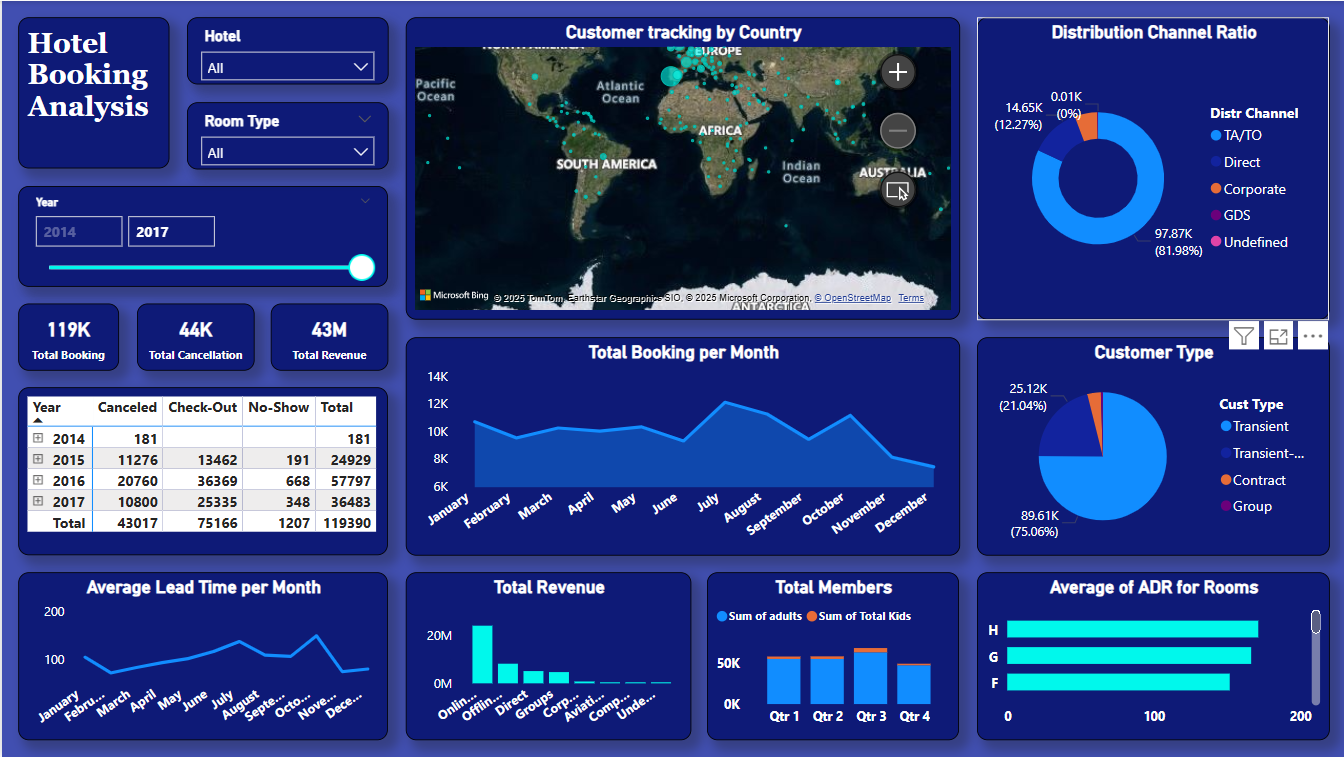

What the dashboard file says about the page in this screenshot:
{"tool":"powerbi","page":{"name":"Page 1","canvas":[1280,720],"ordinal":0},"visuals":[{"type":"card","fields":{"Values":["Hotel_Bookings.Total Booking"]},"box":[16,288,96,64],"z":0},{"type":"card","fields":{"Values":["Hotel_Bookings.Total Cancellation"]},"box":[128,288,112,64],"z":1000},{"type":"card","fields":{"Values":["Hotel_Bookings.Total Revenue Measure"]},"box":[256,288,112,64],"z":2000},{"type":"pivotTable","fields":{"Rows":["Hotel_Bookings.reservation_status_date.Variation.Date Hierarchy.Year","Hotel_Bookings.reservation_status_date.Variation.Date Hierarchy.Month"],"Columns":["Hotel_Bookings.reservation_status"],"Values":["CountNonNull(Hotel_Bookings.reservation_status)"]},"box":[16,368,352,160],"z":3000},{"type":"lineChart","title":"Average Lead Time per Month","fields":{"Category":["Hotel_Bookings.reservation_status_date.Variation.Date Hierarchy.Month"],"Y":["Hotel_Bookings.Average Lead Time"]},"box":[16,544,352,160],"z":4000},{"type":"areaChart","title":"Total Booking per Month","fields":{"Category":["Hotel_Bookings.reservation_status_date.Variation.Date Hierarchy.Month"],"Y":["Hotel_Bookings.Total Booking"]},"box":[384,320,528,208],"z":5000},{"type":"clusteredColumnChart","title":"Total Revenue ","fields":{"Category":["Hotel_Bookings.market_segment"],"Y":["Sum(Hotel_Bookings.Total Revenue)"]},"box":[384,544,272,160],"z":6000},{"type":"columnChart","title":"Total Members","fields":{"Category":["Hotel_Bookings.reservation_status_date.Variation.Date Hierarchy.Quarter"],"Y":["Sum(Hotel_Bookings.adults)","Sum(Hotel_Bookings.Total Kids)"]},"box":[672,544,240,160],"z":7000},{"type":"clusteredBarChart","title":"Average of ADR for Rooms","fields":{"Category":["Hotel_Bookings.assigned_room_type"],"Y":["Avg(Hotel_Bookings.adr)"]},"box":[928,544,336,160],"z":8000},{"type":"pieChart","title":" Customer Type","fields":{"Y":["CountNonNull(Hotel_Bookings.customer_type)"],"Category":["Hotel_Bookings.customer_type"]},"box":[928,320,336,208],"z":9000},{"type":"donutChart","title":"Distribution Channel Ratio","fields":{"Y":["CountNonNull(Hotel_Bookings.distribution_channel)"],"Category":["Hotel_Bookings.distribution_channel"]},"box":[928,16,336,288],"z":10000},{"type":"map","title":"Customer tracking by Country","fields":{"Category":["Hotel_Bookings.country"],"Size":["CountNonNull(Hotel_Bookings.country)"]},"box":[384,16,528,288],"z":11000},{"type":"textbox","box":[16,16,144,144],"z":12000},{"type":"slicer","fields":{"Values":["Hotel_Bookings.reservation_status_date.Variation.Date Hierarchy.Year"]},"box":[16,176,352,96],"z":13000},{"type":"slicer","fields":{"Values":["Hotel_Bookings.hotel"]},"box":[176,16,192,64],"z":14000},{"type":"slicer","fields":{"Values":["Hotel_Bookings.reserved_room_type"]},"box":[176,96,192,64],"z":15000}]}

Visuals, with their boxes in screenshot pixels (x1, y1, x2, y2), scaled from the page's 1280x720 canvas onto the 1344x757 screenshot:
card - Hotel_Bookings.Total Booking: [x1=17, y1=303, x2=118, y2=370]
card - Hotel_Bookings.Total Cancellation: [x1=134, y1=303, x2=252, y2=370]
card - Hotel_Bookings.Total Revenue Measure: [x1=269, y1=303, x2=386, y2=370]
pivotTable - Hotel_Bookings.reservation_status_date.Variation.Date Hierarchy.Year x Hotel_Bookings.reservation_status_date.Variation.Date Hierarchy.Month: [x1=17, y1=387, x2=386, y2=555]
"Average Lead Time per Month" lineChart: [x1=17, y1=572, x2=386, y2=740]
"Total Booking per Month" areaChart: [x1=403, y1=336, x2=958, y2=555]
"Total Revenue " clusteredColumnChart: [x1=403, y1=572, x2=689, y2=740]
"Total Members" columnChart: [x1=706, y1=572, x2=958, y2=740]
"Average of ADR for Rooms" clusteredBarChart: [x1=974, y1=572, x2=1327, y2=740]
" Customer Type" pieChart: [x1=974, y1=336, x2=1327, y2=555]
"Distribution Channel Ratio" donutChart: [x1=974, y1=17, x2=1327, y2=320]
"Customer tracking by Country" map: [x1=403, y1=17, x2=958, y2=320]
textbox: [x1=17, y1=17, x2=168, y2=168]
slicer - Hotel_Bookings.reservation_status_date.Variation.Date Hierarchy.Year: [x1=17, y1=185, x2=386, y2=286]
slicer - Hotel_Bookings.hotel: [x1=185, y1=17, x2=386, y2=84]
slicer - Hotel_Bookings.reserved_room_type: [x1=185, y1=101, x2=386, y2=168]
